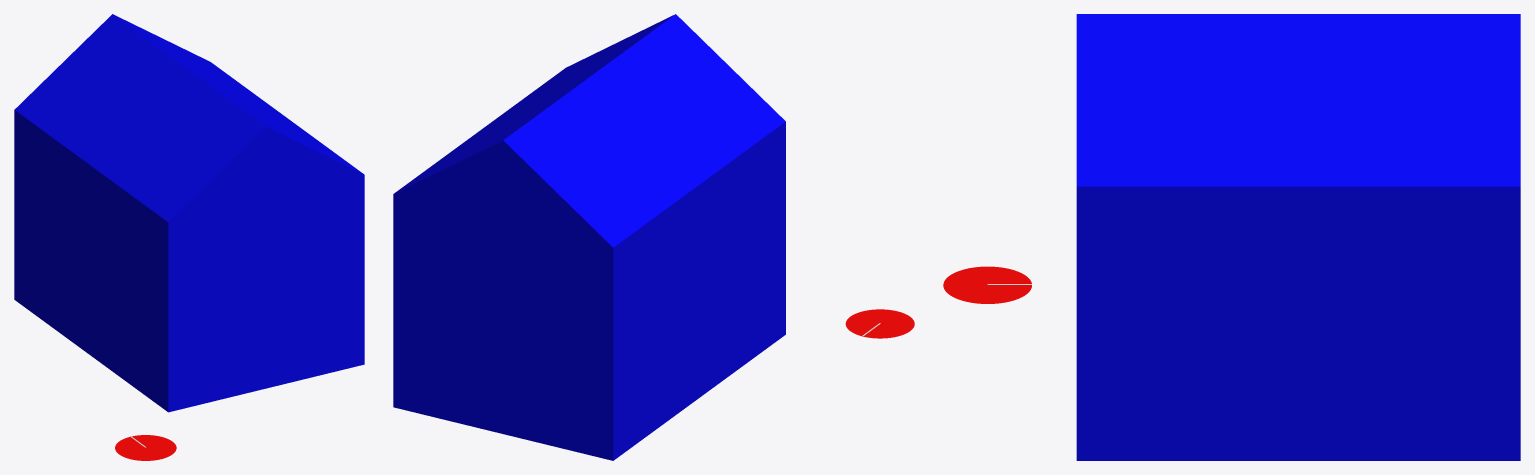
File: result.glb
The picture shows the model from 3 angles, left to right: view 1: azimuth 30°, elevation 25°; view 2: azimuth 150°, elevation 25°; view 3: azimuth 270°, elevation 25°; orthographic projection. The views are drawn at different scales.
Parts seen in each view (by area): view 1: c6325187-9299-4e8e-9e16-8e5f0f7cd822__undefined, 01a9122e-1e23-4e72-8f06-bdb4de9dbda8__Circle; view 2: c6325187-9299-4e8e-9e16-8e5f0f7cd822__undefined, 01a9122e-1e23-4e72-8f06-bdb4de9dbda8__Circle; view 3: c6325187-9299-4e8e-9e16-8e5f0f7cd822__undefined, 01a9122e-1e23-4e72-8f06-bdb4de9dbda8__Circle.
Boxes of the visible parts, x1,y1,x2,y2 form: c6325187-9299-4e8e-9e16-8e5f0f7cd822__undefined: (14, 14, 364, 412); 01a9122e-1e23-4e72-8f06-bdb4de9dbda8__Circle: (115, 435, 176, 460); c6325187-9299-4e8e-9e16-8e5f0f7cd822__undefined: (393, 14, 785, 460); 01a9122e-1e23-4e72-8f06-bdb4de9dbda8__Circle: (845, 309, 914, 338); c6325187-9299-4e8e-9e16-8e5f0f7cd822__undefined: (1076, 14, 1520, 460); 01a9122e-1e23-4e72-8f06-bdb4de9dbda8__Circle: (943, 266, 1031, 303).
Size of the model in its own units: 518 by 469 by 650.
